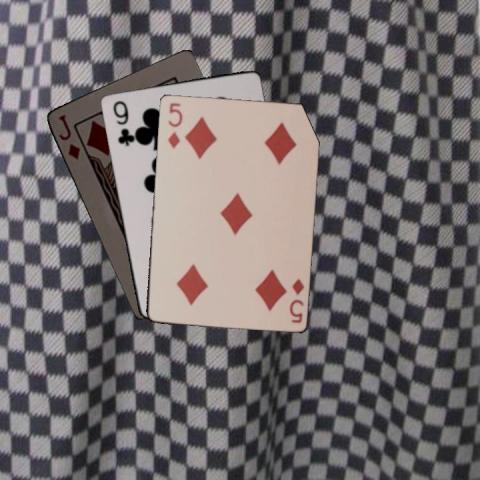5d: (164, 99, 183, 150), (286, 275, 305, 324)
9c: (109, 97, 132, 147)
Jd: (55, 111, 82, 161)
